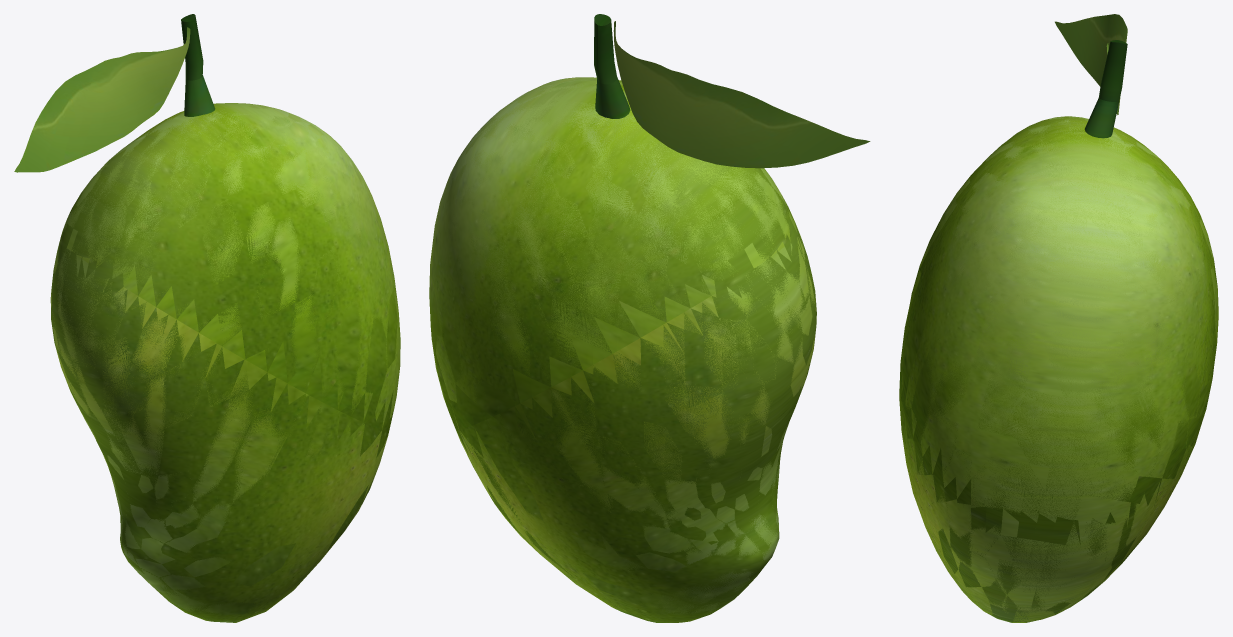
Rendered from kacha amm.fbx.
The picture shows the model from 3 angles, left to right: view 1: azimuth 30°, elevation 25°; view 2: azimuth 150°, elevation 25°; view 3: azimuth 270°, elevation 25°; orthographic projection. The views are drawn at different scales.
Parts seen in each view (by area): view 1: kacha_amm_mango1, kacha_amm_cut_A, kacha_amm_cut_B; view 2: kacha_amm_mango1, kacha_amm_cut_A, kacha_amm_cut_B; view 3: kacha_amm_mango1, kacha_amm_cut_A, kacha_amm_cut_B.
Boxes of the visible parts, x1,y1,x2,y2 form: kacha_amm_mango1: [15, 15, 400, 622]; kacha_amm_cut_A: [14, 14, 397, 431]; kacha_amm_cut_B: [50, 242, 388, 622]; kacha_amm_mango1: [430, 14, 868, 622]; kacha_amm_cut_A: [429, 14, 870, 429]; kacha_amm_cut_B: [456, 234, 816, 622]; kacha_amm_mango1: [900, 14, 1217, 622]; kacha_amm_cut_A: [900, 21, 1218, 522]; kacha_amm_cut_B: [899, 380, 1210, 622].
Size of the model in its own units: 896 by 1308 by 653.
